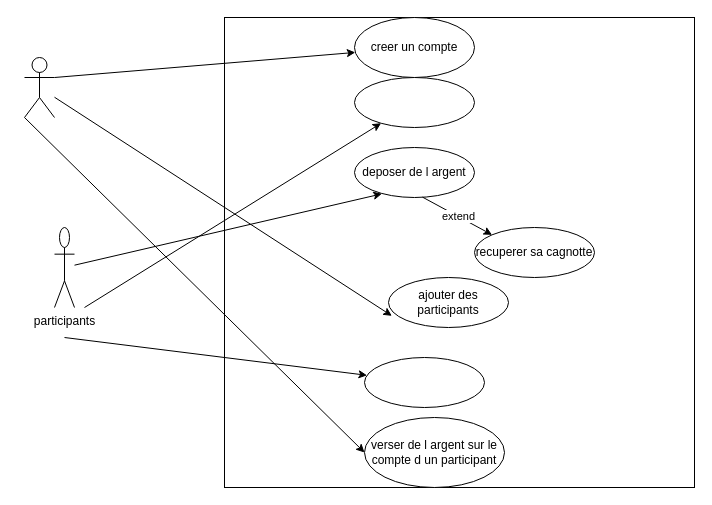
The diagram is 712 pixels wide and 505 high, and some of its shapes have lost their labels. Each missing label, with the box of its shape:
choisir le mois qu il veut recuperer sa cagnotte: (354, 76, 474, 128)
confirmer sa participation: (364, 356, 484, 408)
gerant: (24, 56, 54, 118)
